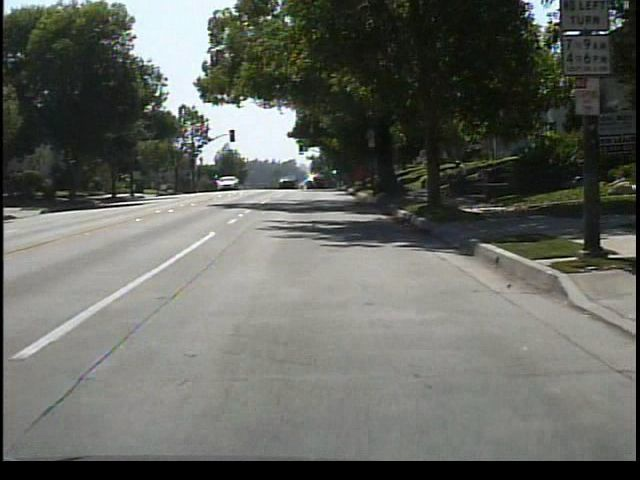person: (449, 155, 473, 197)
